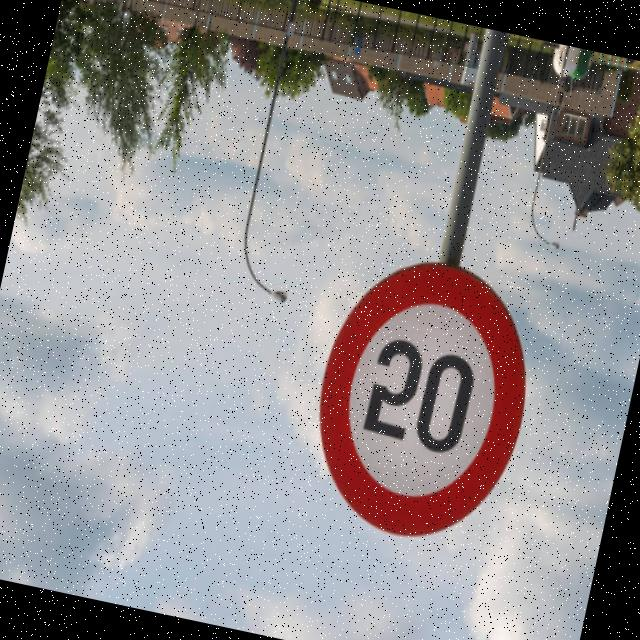speed_limit_50: (288, 231, 558, 574)
